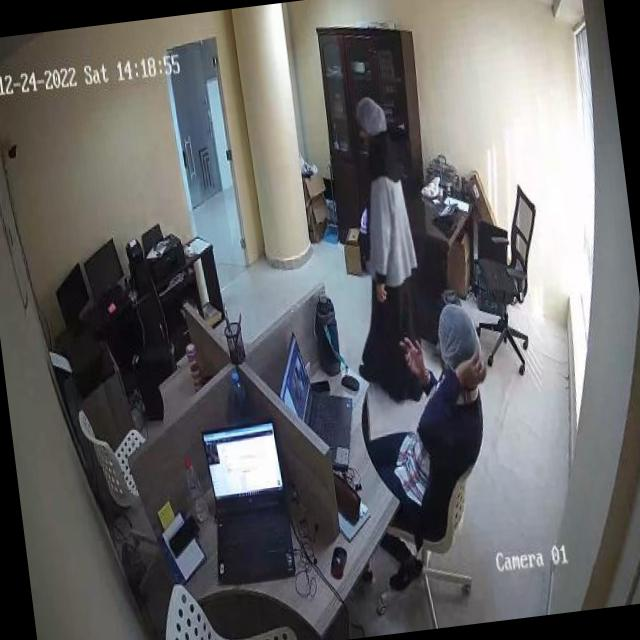hairnet: (428, 296, 494, 380), (350, 92, 387, 136)
